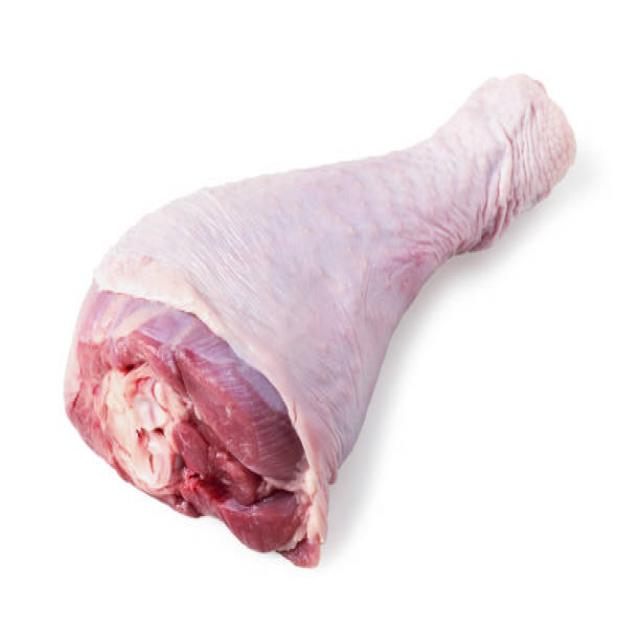Chicken: (51, 68, 594, 584)
